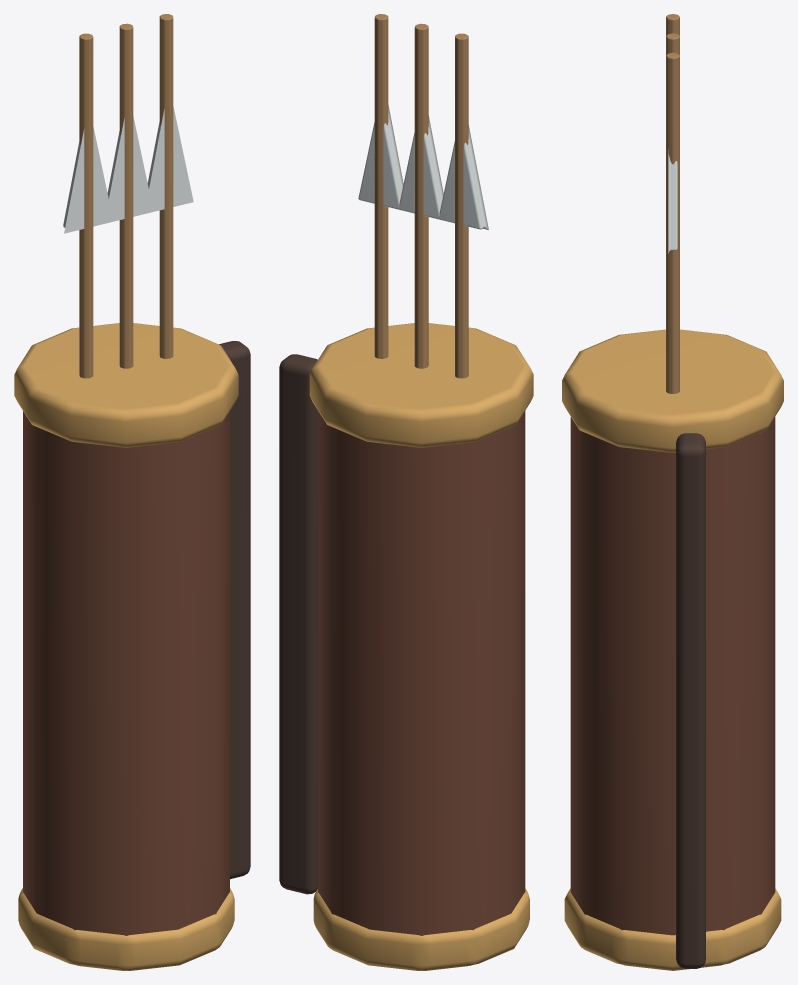
Rendered from fitted_quiver.glb.
3 views of the same model, side by side, from view 1: azimuth 30°, elevation 25°; view 2: azimuth 150°, elevation 25°; view 3: azimuth 270°, elevation 25° (orthographic).
Visible parts, largest first — view 1: Quiver | leather tube, Quiver | rim, Quiver | shoulder strap, Quiver | base cap, Quiver | arrow shaft, Quiver | arrow shaft.001, Quiver | arrow shaft.002, Quiver | arrow fletching, Quiver | arrow fletching.002, Quiver | arrow fletching.001; view 2: Quiver | leather tube, Quiver | rim, Quiver | shoulder strap, Quiver | base cap, Quiver | arrow shaft.002, Quiver | arrow shaft.001, Quiver | arrow shaft, Quiver | arrow fletching, Quiver | arrow fletching.002, Quiver | arrow fletching.001; view 3: Quiver | leather tube, Quiver | rim, Quiver | shoulder strap, Quiver | base cap, Quiver | arrow shaft.002, Quiver | arrow fletching.002.
Part boxes in pixels (left/top/right/bottom): Quiver | leather tube: left=23, top=411, right=229, bottom=935; Quiver | rim: left=14, top=323, right=238, bottom=447; Quiver | shoulder strap: left=219, top=341, right=250, bottom=879; Quiver | base cap: left=18, top=888, right=234, bottom=970; Quiver | arrow shaft: left=79, top=33, right=93, bottom=378; Quiver | arrow shaft.001: left=119, top=23, right=133, bottom=368; Quiver | arrow shaft.002: left=159, top=14, right=173, bottom=358; Quiver | arrow fletching: left=63, top=127, right=113, bottom=233; Quiver | arrow fletching.002: left=144, top=106, right=193, bottom=213; Quiver | arrow fletching.001: left=104, top=116, right=153, bottom=222; Quiver | leather tube: left=318, top=411, right=525, bottom=935; Quiver | rim: left=309, top=323, right=533, bottom=447; Quiver | shoulder strap: left=279, top=354, right=317, bottom=894; Quiver | base cap: left=313, top=888, right=529, bottom=970; Quiver | arrow shaft.002: left=374, top=14, right=388, bottom=358; Quiver | arrow shaft.001: left=414, top=23, right=428, bottom=368; Quiver | arrow shaft: left=455, top=33, right=468, bottom=378; Quiver | arrow fletching: left=439, top=125, right=488, bottom=229; Quiver | arrow fletching.002: left=358, top=105, right=403, bottom=209; Quiver | arrow fletching.001: left=399, top=116, right=443, bottom=219; Quiver | leather tube: left=570, top=417, right=775, bottom=935; Quiver | rim: left=562, top=329, right=783, bottom=452; Quiver | shoulder strap: left=676, top=433, right=705, bottom=968; Quiver | base cap: left=564, top=888, right=781, bottom=970; Quiver | arrow shaft.002: left=666, top=52, right=679, bottom=393; Quiver | arrow fletching.002: left=668, top=149, right=677, bottom=253.
Size of the model in its own units: 0.2145 by 0.8175 by 0.184.
